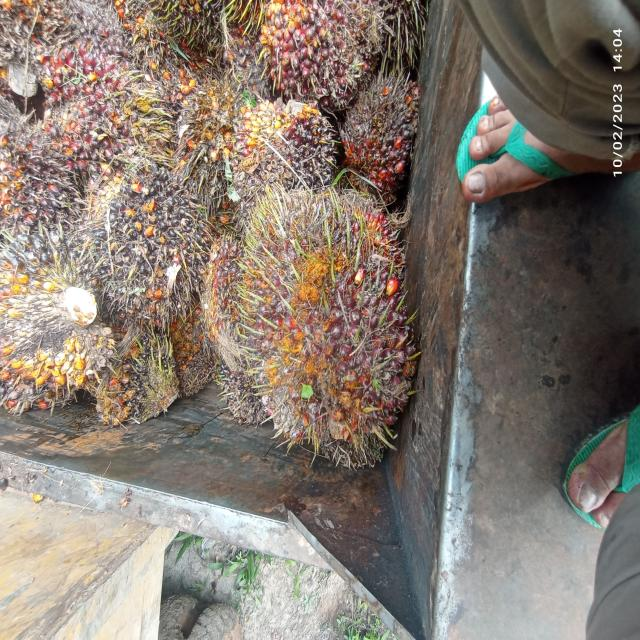fraksi 00: (89, 126, 199, 347), (230, 78, 345, 218)
fraksi 1: (230, 163, 414, 482), (16, 11, 134, 195), (334, 48, 424, 199)
